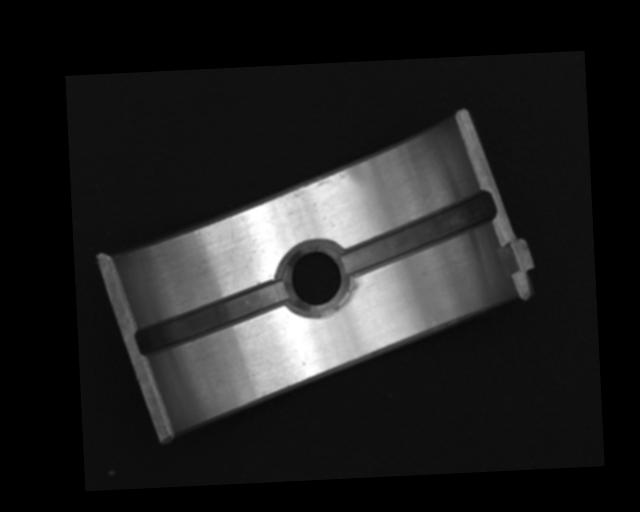gap: (340, 192, 493, 277), (131, 279, 287, 356)
hole: (276, 237, 353, 320)
